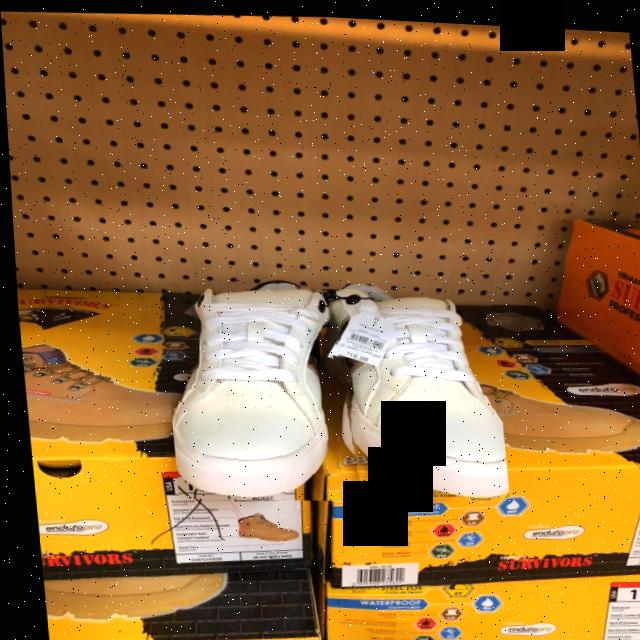shoe: (332, 286, 503, 492), (167, 283, 326, 497)
